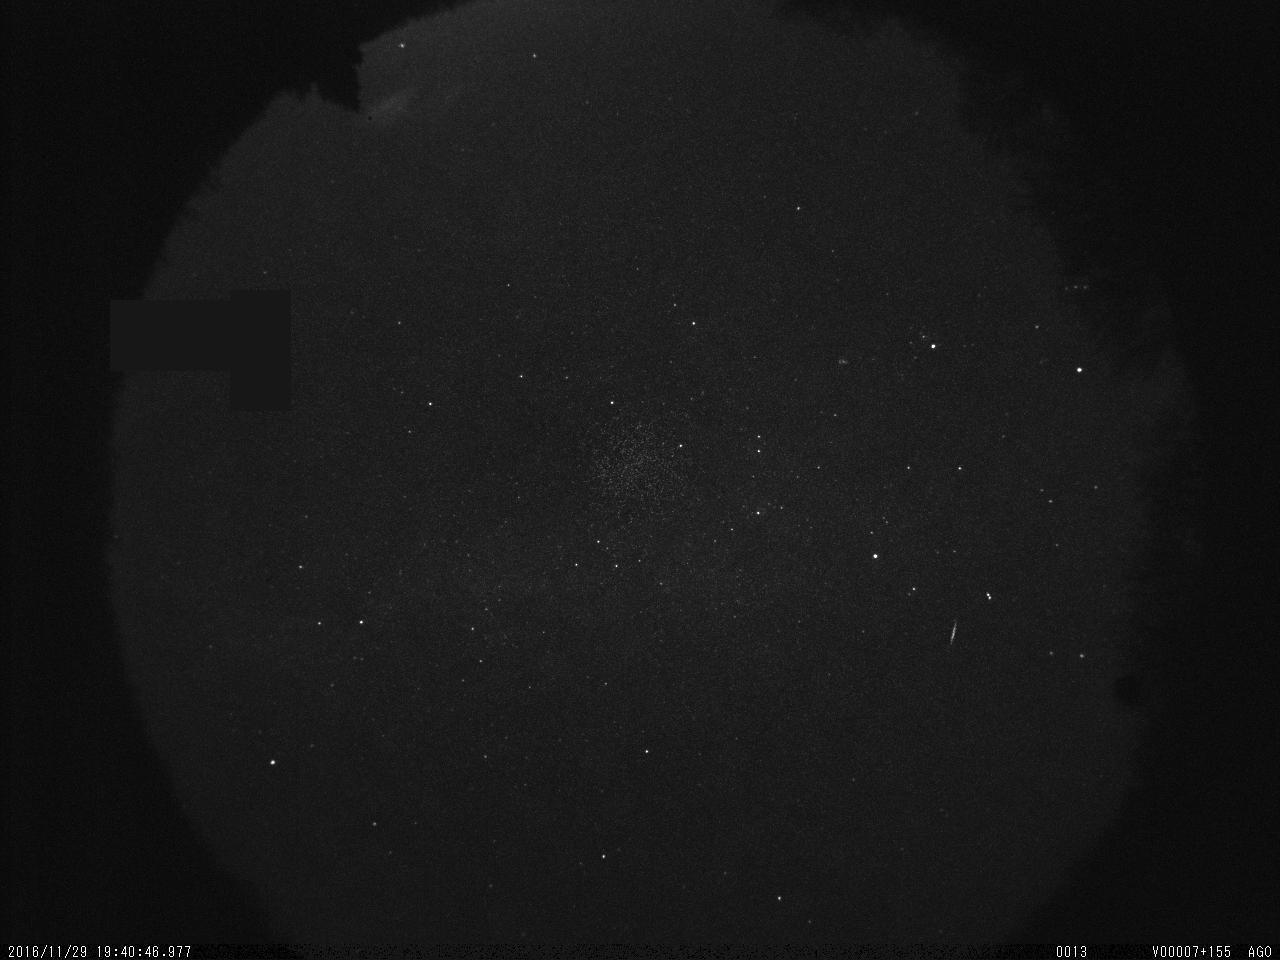meteor: (934, 616, 976, 657)
